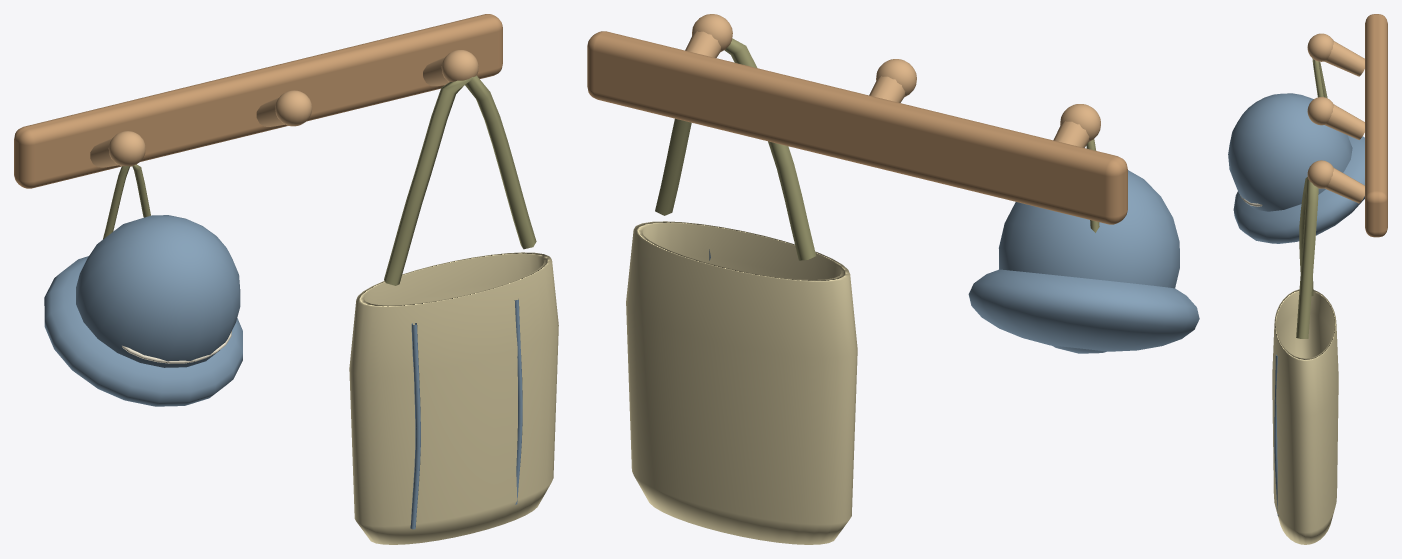
File: family-outing-hooks-v1.glb
3 renders of one model, left to right at view 1: azimuth 30°, elevation 25°; view 2: azimuth 150°, elevation 25°; view 3: azimuth 270°, elevation 25°, orthographic. The views are drawn at different scales.
Parts seen in each view (by area): view 1: Soft market tote, Maple hook rail, Hat crown, Bucket hat brim, Canvas handle, Mushroom end (×3), Woven blue ribbon (×2), Hat loop; view 2: Soft market tote, Maple hook rail, Bucket hat brim, Hat crown, Canvas handle, Mushroom end (×3); view 3: Soft market tote, Hat crown, Maple hook rail, Bucket hat brim, Wood peg (×3), Canvas handle, Mushroom end (×3), Woven blue ribbon, Hat loop.
Part boxes in pixels (x1=…): Soft market tote: x1=349, y1=252, x2=558, y2=544; Maple hook rail: x1=14, y1=14, x2=502, y2=188; Hat crown: x1=76, y1=215, x2=240, y2=367; Bucket hat brim: x1=44, y1=256, x2=242, y2=406; Canvas handle: x1=384, y1=75, x2=536, y2=285; Mushroom end (×3): x1=108, y1=50, x2=478, y2=166; Woven blue ribbon (×2): x1=410, y1=299, x2=522, y2=529; Hat loop: x1=103, y1=164, x2=150, y2=239; Soft market tote: x1=626, y1=221, x2=857, y2=544; Maple hook rail: x1=587, y1=31, x2=1127, y2=224; Bucket hat brim: x1=968, y1=269, x2=1199, y2=351; Hat crown: x1=998, y1=170, x2=1179, y2=353; Canvas handle: x1=655, y1=38, x2=816, y2=260; Mushroom end (×3): x1=692, y1=14, x2=1100, y2=141; Soft market tote: x1=1272, y1=289, x2=1338, y2=544; Hat crown: x1=1228, y1=93, x2=1352, y2=211; Maple hook rail: x1=1365, y1=14, x2=1387, y2=237; Bucket hat brim: x1=1233, y1=135, x2=1364, y2=243; Wood peg (×3): x1=1324, y1=41, x2=1364, y2=203; Canvas handle: x1=1296, y1=177, x2=1318, y2=338; Mushroom end (×3): x1=1307, y1=33, x2=1333, y2=188; Woven blue ribbon: x1=1274, y1=354, x2=1278, y2=516; Hat loop: x1=1312, y1=58, x2=1327, y2=98.
Size of the model in its own units: 0.6791 by 0.597 by 0.2384.
